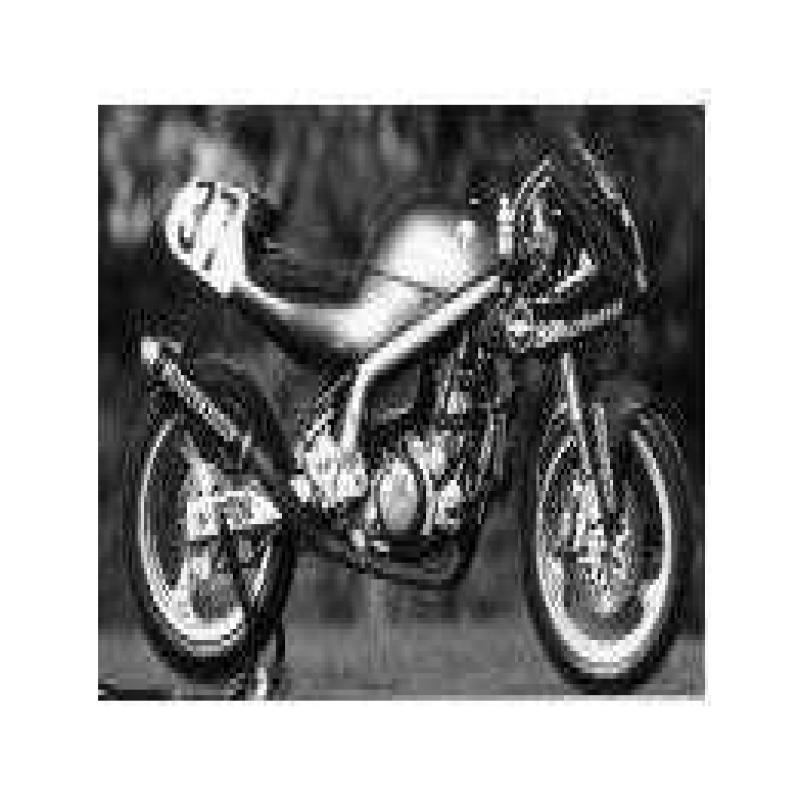bike: (112, 109, 679, 676)
